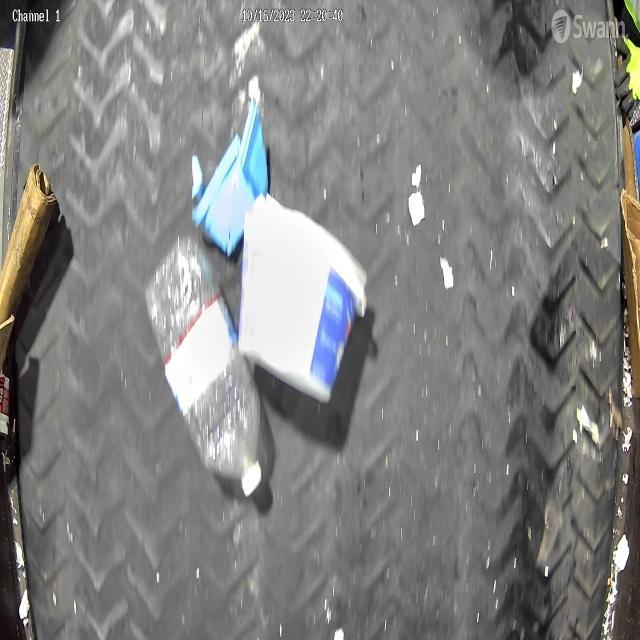plastic_bottle: (145, 236, 263, 498)
